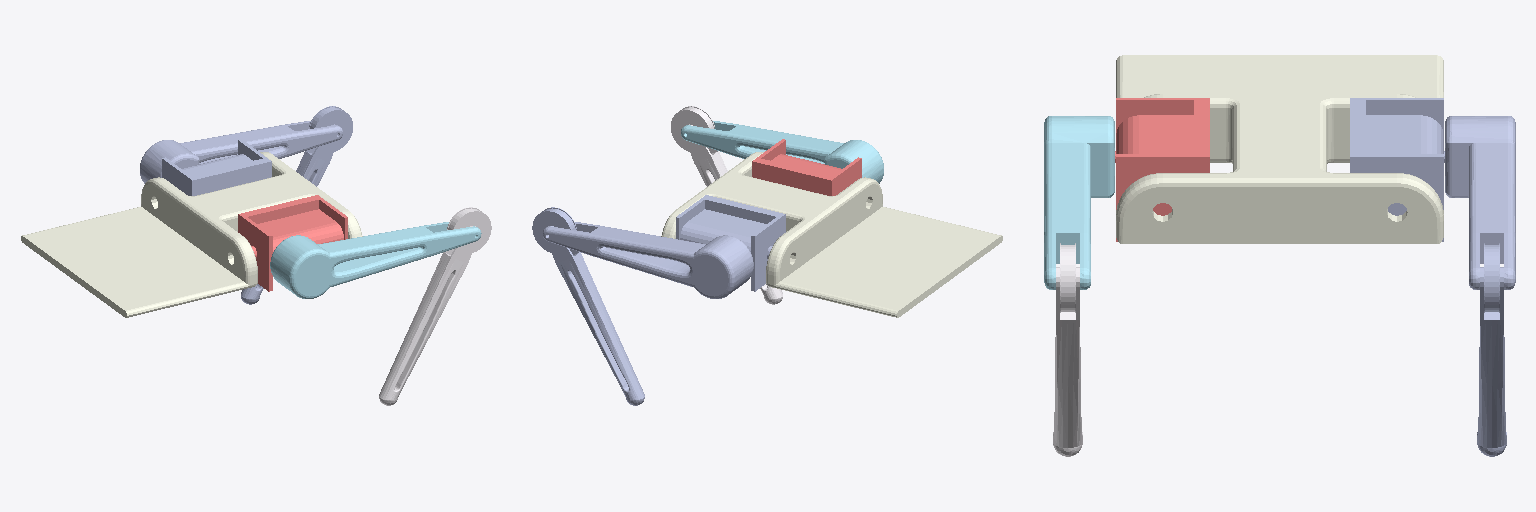
The robot description file, URDF, robot "Assembly_2legs":
<?xml version="1.0" encoding="utf-8"?>
<!-- This URDF was automatically created by SolidWorks to URDF Exporter! Originally created by [author] ([email redacted]) 
     Commit Version: 1.6.0-4-g7f85cfe  Build Version: 1.6.7995.38578
     For more information, please see http://wiki.ros.org/sw_urdf_exporter -->
<robot
  name="Assembly_2legs">
  <link
    name="base_link">
    <inertial>
      <origin
        xyz="0.0279506803184872 -0.0310001450420563 0.029723393312707"
        rpy="0 0 0" />
      <mass
        value="0.2256301581738" />
      <inertia
        ixx="0.000110972096730945"
        ixy="1.01278701606383E-09"
        ixz="-5.05389644440682E-05"
        iyy="0.000589088006197645"
        iyz="-4.04778183612972E-11"
        izz="0.000661453126018528" />
    </inertial>
    <visual>
      <origin
        xyz="0 0 0"
        rpy="0 0 0" />
      <geometry>
        <mesh
          filename="package://Assembly_2legs/meshes/base_link.STL" />
      </geometry>
      <material
        name="">
        <color
          rgba="0.996078431372549 1 0.941176470588235 1" />
      </material>
    </visual>
    <collision>
      <origin
        xyz="0 0 0"
        rpy="0 0 0" />
      <geometry>
        <mesh
          filename="package://Assembly_2legs/meshes/base_link.STL" />
      </geometry>
    </collision>
  </link>
  <link
    name="lBL0">
    <inertial>
      <origin
        xyz="0.0369796994169903 6.93889390390723E-18 -0.00178507803306503"
        rpy="0 0 0" />
      <mass
        value="0.0694855692046376" />
      <inertia
        ixx="1.47782806487988E-05"
        ixy="7.997752458929E-22"
        ixz="3.46091213455787E-08"
        iyy="3.24733950202541E-05"
        iyz="-1.31239389643897E-21"
        izz="2.87209553037247E-05" />
    </inertial>
    <visual>
      <origin
        xyz="0 0 0"
        rpy="0 0 0" />
      <geometry>
        <mesh
          filename="package://Assembly_2legs/meshes/lBL0.STL" />
      </geometry>
      <material
        name="">
        <color
          rgba="1 0.588235294117647 0.588235294117647 1" />
      </material>
    </visual>
    <collision>
      <origin
        xyz="0 0 0"
        rpy="0 0 0" />
      <geometry>
        <mesh
          filename="package://Assembly_2legs/meshes/lBL0.STL" />
      </geometry>
    </collision>
  </link>
  <joint
    name="jBL0"
    type="revolute">
    <origin
      xyz="0.017811 -0.081 0.033208"
      rpy="1.5708 0 0" />
    <parent
      link="base_link" />
    <child
      link="lBL0" />
    <axis
      xyz="1 0 0" />
    <limit
      lower="-3.14"
      upper="3.14"
      effort="100"
      velocity="1" />
  </joint>
  <link
    name="lBL1">
    <inertial>
      <origin
        xyz="0.0297900916214869 -4.10803778286284E-08 0.0176900103032271"
        rpy="0 0 0" />
      <mass
        value="0.0543878633139573" />
      <inertia
        ixx="6.41999530217215E-06"
        ixy="-1.2377538867077E-10"
        ixz="-3.92471302853237E-06"
        iyy="7.86068796742841E-05"
        iyz="-2.165337421528E-11"
        izz="7.87010706226405E-05" />
    </inertial>
    <visual>
      <origin
        xyz="0 0 0"
        rpy="0 0 0" />
      <geometry>
        <mesh
          filename="package://Assembly_2legs/meshes/lBL1.STL" />
      </geometry>
      <material
        name="">
        <color
          rgba="0.756862745098039 0.941176470588235 1 1" />
      </material>
    </visual>
    <collision>
      <origin
        xyz="0 0 0"
        rpy="0 0 0" />
      <geometry>
        <mesh
          filename="package://Assembly_2legs/meshes/lBL1.STL" />
      </geometry>
    </collision>
  </link>
  <joint
    name="jBL1"
    type="revolute">
    <origin
      xyz="0.0240621799195583 0 0.0205"
      rpy="0 0 0" />
    <parent
      link="lBL0" />
    <child
      link="lBL1" />
    <axis
      xyz="0 0 1" />
    <limit
      lower="-3.14"
      upper="3.14"
      effort="100"
      velocity="1" />
  </joint>
  <link
    name="lBL2">
    <inertial>
      <origin
        xyz="-0.0234452874274445 -0.0406114064763683 0.00889477698267038"
        rpy="0 0 0" />
      <mass
        value="0.0164357398740559" />
      <inertia
        ixx="1.11252791169978E-05"
        ixy="-6.08698991949548E-06"
        ixz="-1.88350905166657E-12"
        iyy="4.06902746037637E-06"
        iyz="-4.24097295533046E-12"
        izz="1.4936594144131E-05" />
    </inertial>
    <visual>
      <origin
        xyz="0 0 0"
        rpy="0 0 0" />
      <geometry>
        <mesh
          filename="package://Assembly_2legs/meshes/lBL2.STL" />
      </geometry>
      <material
        name="">
        <color
          rgba="0.992156862745098 0.980392156862745 1 1" />
      </material>
    </visual>
    <collision>
      <origin
        xyz="0 0 0"
        rpy="0 0 0" />
      <geometry>
        <mesh
          filename="package://Assembly_2legs/meshes/lBL2.STL" />
      </geometry>
    </collision>
  </link>
  <joint
    name="jBL2"
    type="revolute">
    <origin
      xyz="0.1225 0 0.0111051976260555"
      rpy="0 0 0" />
    <parent
      link="lBL1" />
    <child
      link="lBL2" />
    <axis
      xyz="0 0 1" />
    <limit
      lower="-3.14"
      upper="3.14"
      effort="100"
      velocity="1" />
  </joint>
  <link
    name="lBR0">
    <inertial>
      <origin
        xyz="0.0369796994169903 0 0.00178507803306503"
        rpy="0 0 0" />
      <mass
        value="0.0694855692046376" />
      <inertia
        ixx="1.47782806487988E-05"
        ixy="1.31046349366624E-21"
        ixz="-3.46091213455789E-08"
        iyy="3.24733950202541E-05"
        iyz="6.52160058374468E-22"
        izz="2.87209553037247E-05" />
    </inertial>
    <visual>
      <origin
        xyz="0 0 0"
        rpy="0 0 0" />
      <geometry>
        <mesh
          filename="package://Assembly_2legs/meshes/lBR0.STL" />
      </geometry>
      <material
        name="">
        <color
          rgba="0.792156862745098 0.819607843137255 0.933333333333333 1" />
      </material>
    </visual>
    <collision>
      <origin
        xyz="0 0 0"
        rpy="0 0 0" />
      <geometry>
        <mesh
          filename="package://Assembly_2legs/meshes/lBR0.STL" />
      </geometry>
    </collision>
  </link>
  <joint
    name="jBR0"
    type="revolute">
    <origin
      xyz="0.017811 0.019 0.033208"
      rpy="1.5708 0 0" />
    <parent
      link="base_link" />
    <child
      link="lBR0" />
    <axis
      xyz="1 0 0" />
    <limit
      lower="-3.14"
      upper="3.14"
      effort="100"
      velocity="1" />
  </joint>
  <link
    name="lBR1">
    <inertial>
      <origin
        xyz="0.0297888736921436 -8.22161395769294E-08 -0.017689800484389"
        rpy="0 0 0" />
      <mass
        value="0.0543868045593658" />
      <inertia
        ixx="6.42010461491763E-06"
        ixy="-1.45916099385264E-10"
        ixz="3.92433164625103E-06"
        iyy="7.8604109906323E-05"
        iyz="-5.32956086414728E-11"
        izz="7.86985666311823E-05" />
    </inertial>
    <visual>
      <origin
        xyz="0 0 0"
        rpy="0 0 0" />
      <geometry>
        <mesh
          filename="package://Assembly_2legs/meshes/lBR1.STL" />
      </geometry>
      <material
        name="">
        <color
          rgba="0.792156862745098 0.819607843137255 0.933333333333333 1" />
      </material>
    </visual>
    <collision>
      <origin
        xyz="0 0 0"
        rpy="0 0 0" />
      <geometry>
        <mesh
          filename="package://Assembly_2legs/meshes/lBR1.STL" />
      </geometry>
    </collision>
  </link>
  <joint
    name="jBR1"
    type="revolute">
    <origin
      xyz="0.0240621799195583 0 -0.0205"
      rpy="0 0 0" />
    <parent
      link="lBR0" />
    <child
      link="lBR1" />
    <axis
      xyz="0 0 1" />
    <limit
      lower="-3.14"
      upper="3.14"
      effort="100"
      velocity="1" />
  </joint>
  <link
    name="lBR2">
    <inertial>
      <origin
        xyz="-0.0234446957264386 -0.0406102338451713 -0.00889487445886598"
        rpy="0 0 0" />
      <mass
        value="0.0164353798682279" />
      <inertia
        ixx="1.11248398272465E-05"
        ixy="-6.08678057598061E-06"
        ixz="-5.31762855735152E-11"
        iyy="4.0689202627825E-06"
        iyz="-9.77066961687033E-11"
        izz="1.49360661245119E-05" />
    </inertial>
    <visual>
      <origin
        xyz="0 0 0"
        rpy="0 0 0" />
      <geometry>
        <mesh
          filename="package://Assembly_2legs/meshes/lBR2.STL" />
      </geometry>
      <material
        name="">
        <color
          rgba="0.792156862745098 0.819607843137255 0.933333333333333 1" />
      </material>
    </visual>
    <collision>
      <origin
        xyz="0 0 0"
        rpy="0 0 0" />
      <geometry>
        <mesh
          filename="package://Assembly_2legs/meshes/lBR2.STL" />
      </geometry>
    </collision>
  </link>
  <joint
    name="jBR2"
    type="revolute">
    <origin
      xyz="0.1225 0 -0.0111051976260556"
      rpy="0 0 0" />
    <parent
      link="lBR1" />
    <child
      link="lBR2" />
    <axis
      xyz="0 0 1" />
    <limit
      lower="-3.14"
      upper="3.14"
      effort="100"
      velocity="1" />
  </joint>
</robot>

--- Facts derived from the render (not from the file) ---
Views: 3 orthographic renders of the robot side by side, from view 1: azimuth 30°, elevation 25°; view 2: azimuth 150°, elevation 25°; view 3: azimuth 270°, elevation 25°.
Robot: Assembly_2legs — 7 links, 6 joints (6 revolute); root link base_link; default pose: every joint at zero.
Visible links, largest first — view 1: base_link, lBL1, lBL2, lBR1, lBL0, lBR0, lBR2; view 2: base_link, lBR1, lBR2, lBL1, lBR0, lBL0, lBL2; view 3: base_link, lBL1, lBR1, lBL0, lBR0, lBL2, lBR2.
Boxes of the visible links, x1=… form: base_link: x1=21, y1=152, x2=362, y2=317; lBL1: x1=270, y1=222, x2=481, y2=298; lBL2: x1=379, y1=207, x2=491, y2=405; lBR1: x1=140, y1=121, x2=342, y2=183; lBL0: x1=238, y1=195, x2=347, y2=291; lBR0: x1=162, y1=139, x2=271, y2=195; lBR2: x1=241, y1=106, x2=352, y2=304; base_link: x1=661, y1=152, x2=1002, y2=317; lBR1: x1=542, y1=222, x2=753, y2=298; lBR2: x1=532, y1=207, x2=644, y2=405; lBL1: x1=681, y1=121, x2=883, y2=183; lBR0: x1=676, y1=195, x2=785, y2=291; lBL0: x1=752, y1=139, x2=861, y2=195; lBL2: x1=671, y1=106, x2=782, y2=304; base_link: x1=1116, y1=55, x2=1443, y2=243; lBL1: x1=1044, y1=116, x2=1114, y2=289; lBR1: x1=1445, y1=116, x2=1515, y2=289; lBL0: x1=1115, y1=98, x2=1209, y2=241; lBR0: x1=1350, y1=98, x2=1444, y2=241; lBL2: x1=1053, y1=243, x2=1082, y2=456; lBR2: x1=1477, y1=243, x2=1506, y2=456.
Bounding box of the posed robot: 0.2616 × 0.201 × 0.1317 m (x, y, z).
Meshes: 7 distinct files referenced, 7 mesh visuals loaded (7 binary STL).